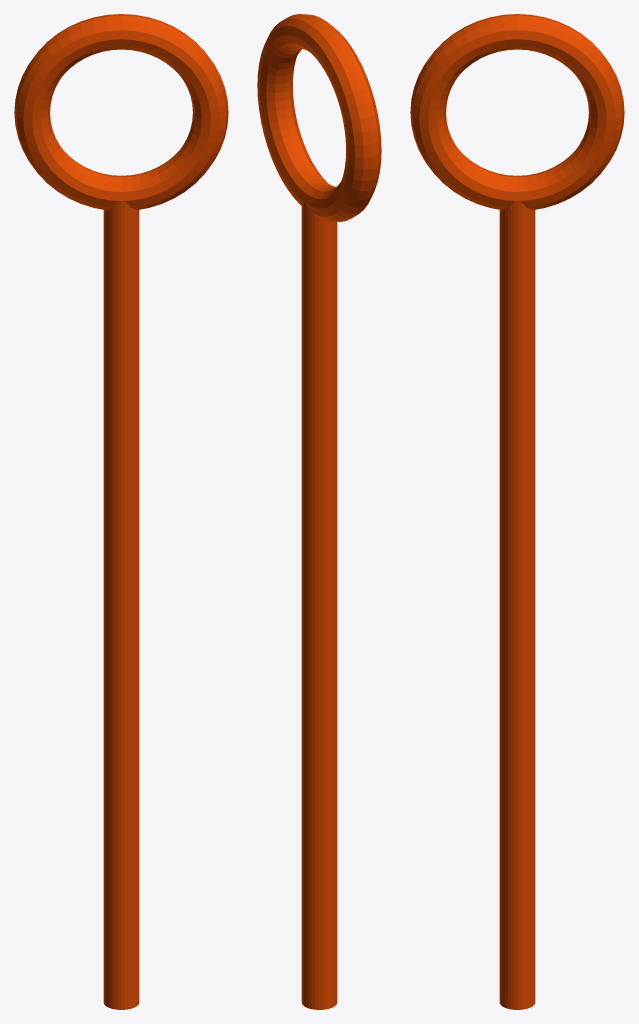
The model's file is Stick.glb.
The picture shows the model from 3 angles, left to right: view 1: azimuth 90°, elevation 25°; view 2: azimuth 210°, elevation 25°; view 3: azimuth 270°, elevation 25°; orthographic projection.
Parts seen in each view (by area): view 1: Torus; view 2: Torus; view 3: Torus.
Part boxes in pixels (x1,y1,x2,y2): Torus: (14,14,228,1009); Torus: (257,14,381,1009); Torus: (410,14,624,1009).
Bounding box in the file's own units: 0.02 × 0.61 × 0.12.
